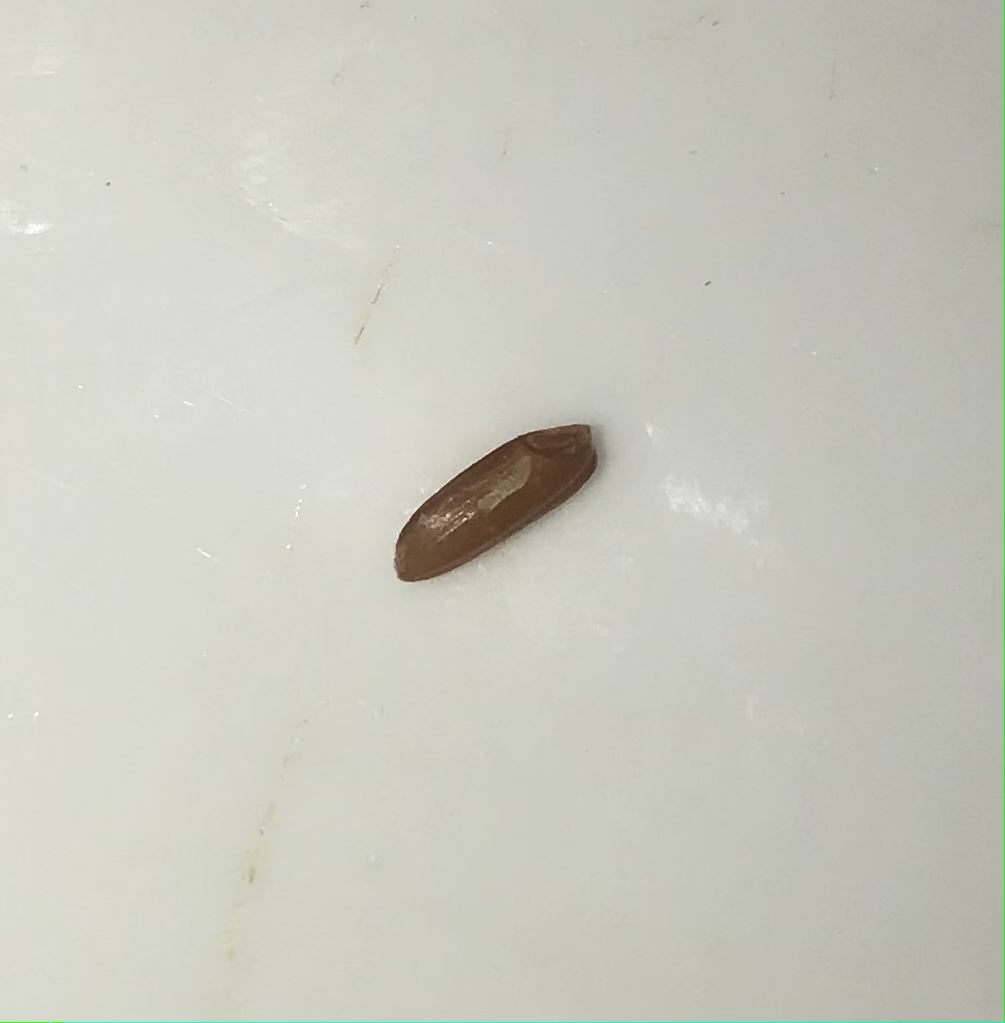Gao Lut Do: (390, 422, 605, 588)
